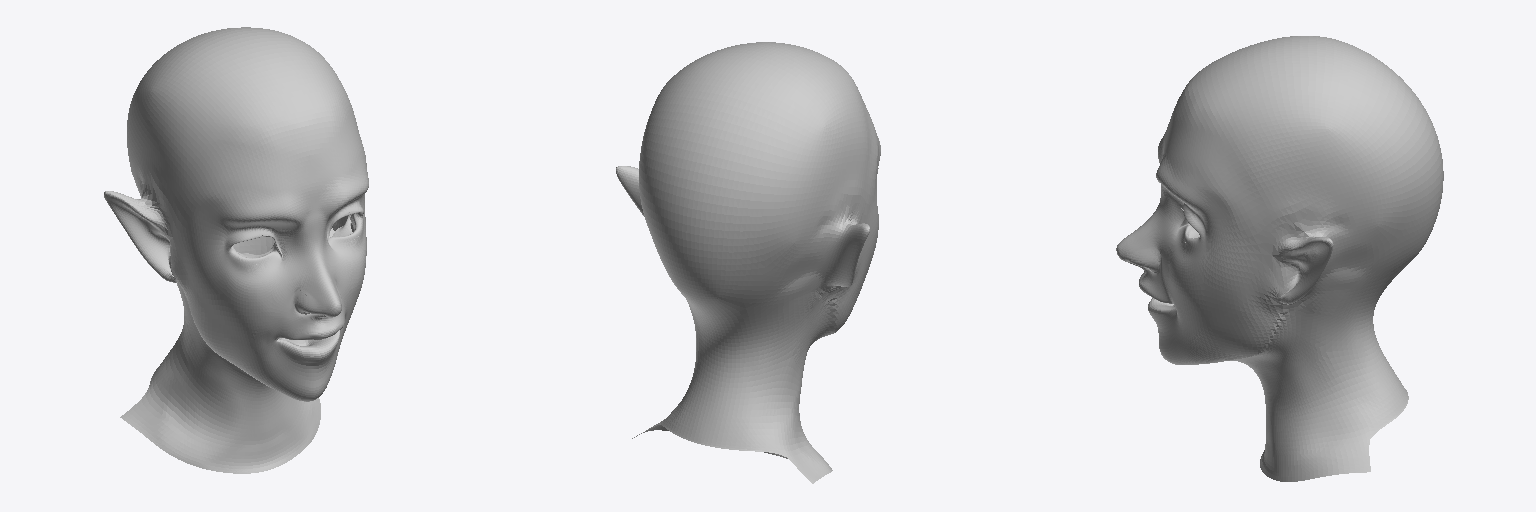
The model's file is Jen_Head.OBJ.
3 views of the same model, side by side, from view 1: azimuth 30°, elevation 25°; view 2: azimuth 150°, elevation 25°; view 3: azimuth 270°, elevation 25° (orthographic).
Parts seen in each view (by area): view 1: Group1; view 2: Group1; view 3: Group1.
Part boxes in pixels (left/top/right/bottom): Group1: left=104, top=27, right=368, bottom=473; Group1: left=616, top=42, right=880, bottom=483; Group1: left=1116, top=36, right=1443, bottom=481.
Bounding box in the file's own units: 1.99 × 3.11 × 2.22.